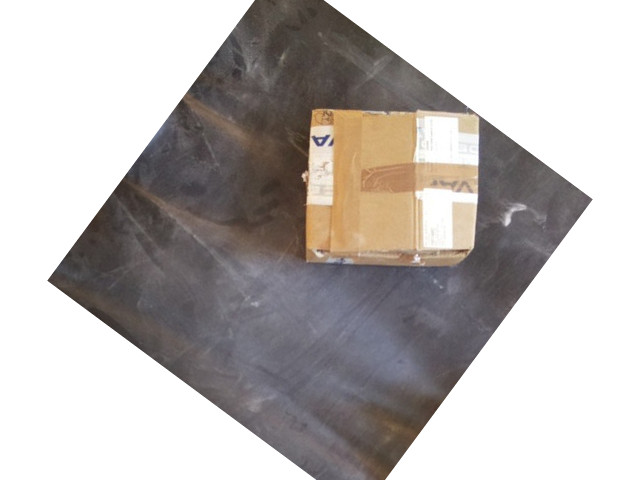cardboard: (305, 110, 478, 263)
